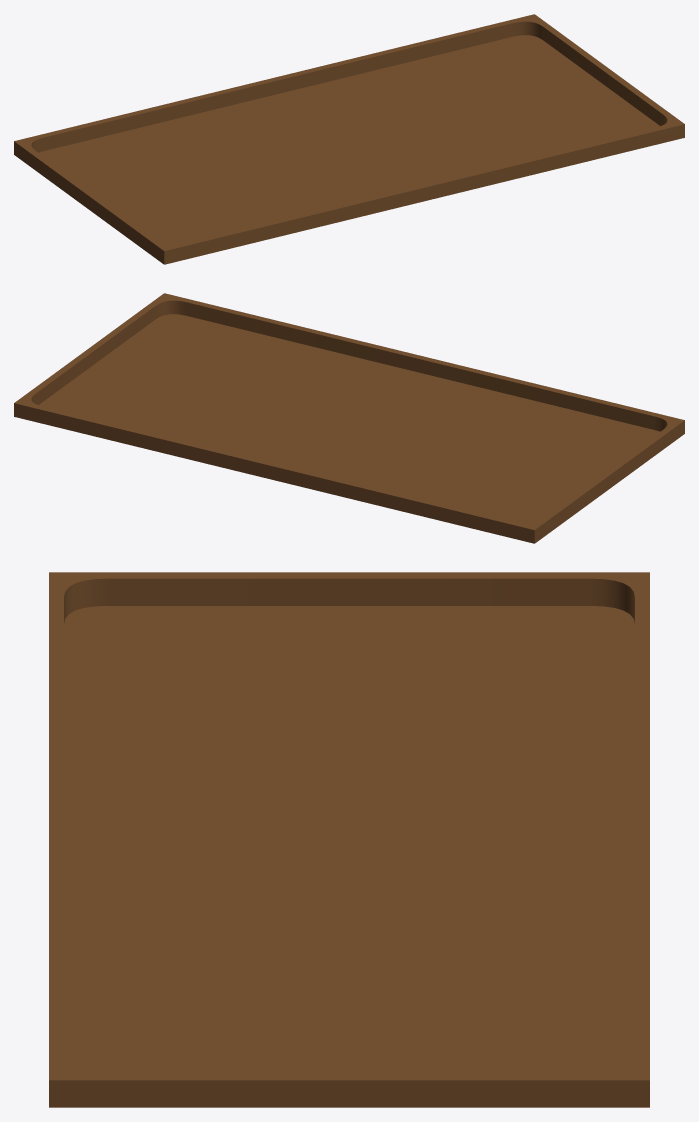
The model's file is Ceiling_B_4x2m_B.FBX.
3 views of the same model, one above another, from view 1: azimuth 30°, elevation 25°; view 2: azimuth 150°, elevation 25°; view 3: azimuth 270°, elevation 25° (orthographic). The views are drawn at different scales.
Parts seen in each view (by area): view 1: Ceiling_B_4x2m_B; view 2: Ceiling_B_4x2m_B; view 3: Ceiling_B_4x2m_B.
Part boxes in pixels (left/top/right/bottom): Ceiling_B_4x2m_B: left=14, top=14, right=684, bottom=264; Ceiling_B_4x2m_B: left=14, top=293, right=684, bottom=543; Ceiling_B_4x2m_B: left=49, top=572, right=649, bottom=1107.
Size of the model in its own units: 400 by 10 by 200.
